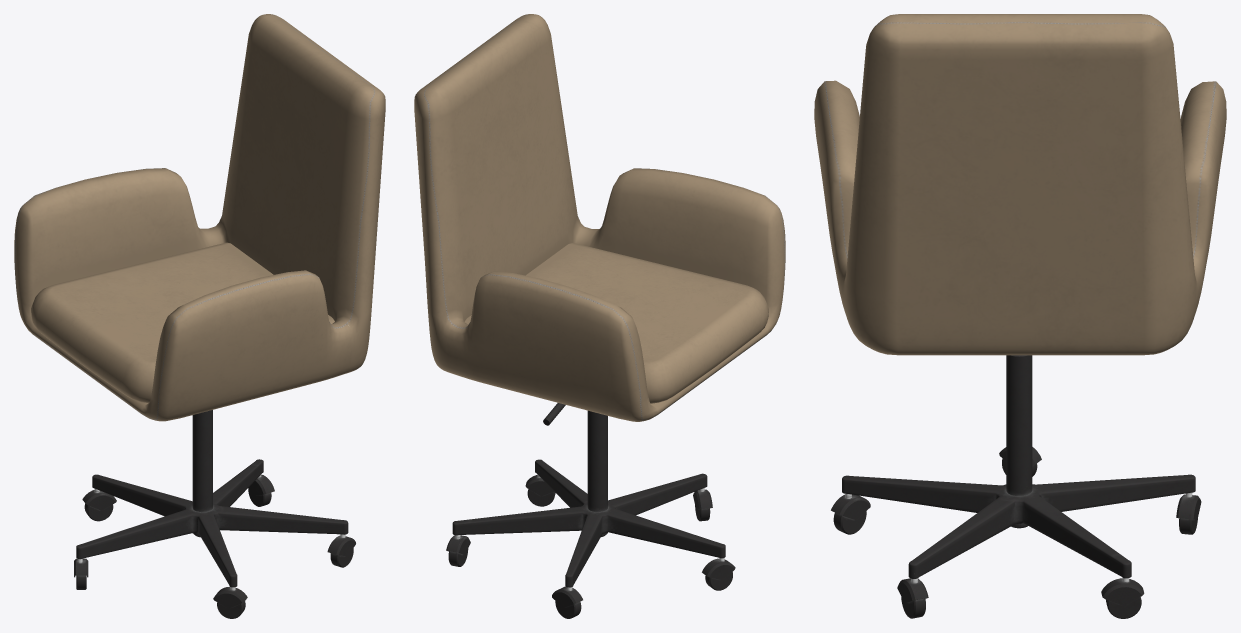
Rendered from SM_BrownOfficeChairLeather.fbx.
3 renders of one model, left to right at view 1: azimuth 30°, elevation 25°; view 2: azimuth 150°, elevation 25°; view 3: azimuth 270°, elevation 25°, orthographic. The views are drawn at different scales.
Parts seen in each view (by area): view 1: SM_BrownOfficeChairLeather_LOD0; view 2: SM_BrownOfficeChairLeather_LOD0; view 3: SM_BrownOfficeChairLeather_LOD0.
Boxes of the visible parts, <box> form: SM_BrownOfficeChairLeather_LOD0: <box>14,14,385,618</box>; SM_BrownOfficeChairLeather_LOD0: <box>414,14,785,618</box>; SM_BrownOfficeChairLeather_LOD0: <box>814,14,1226,618</box>.
Bounding box in the file's own units: 72.72 × 76.75 × 125.
1 material, 1 textured.
